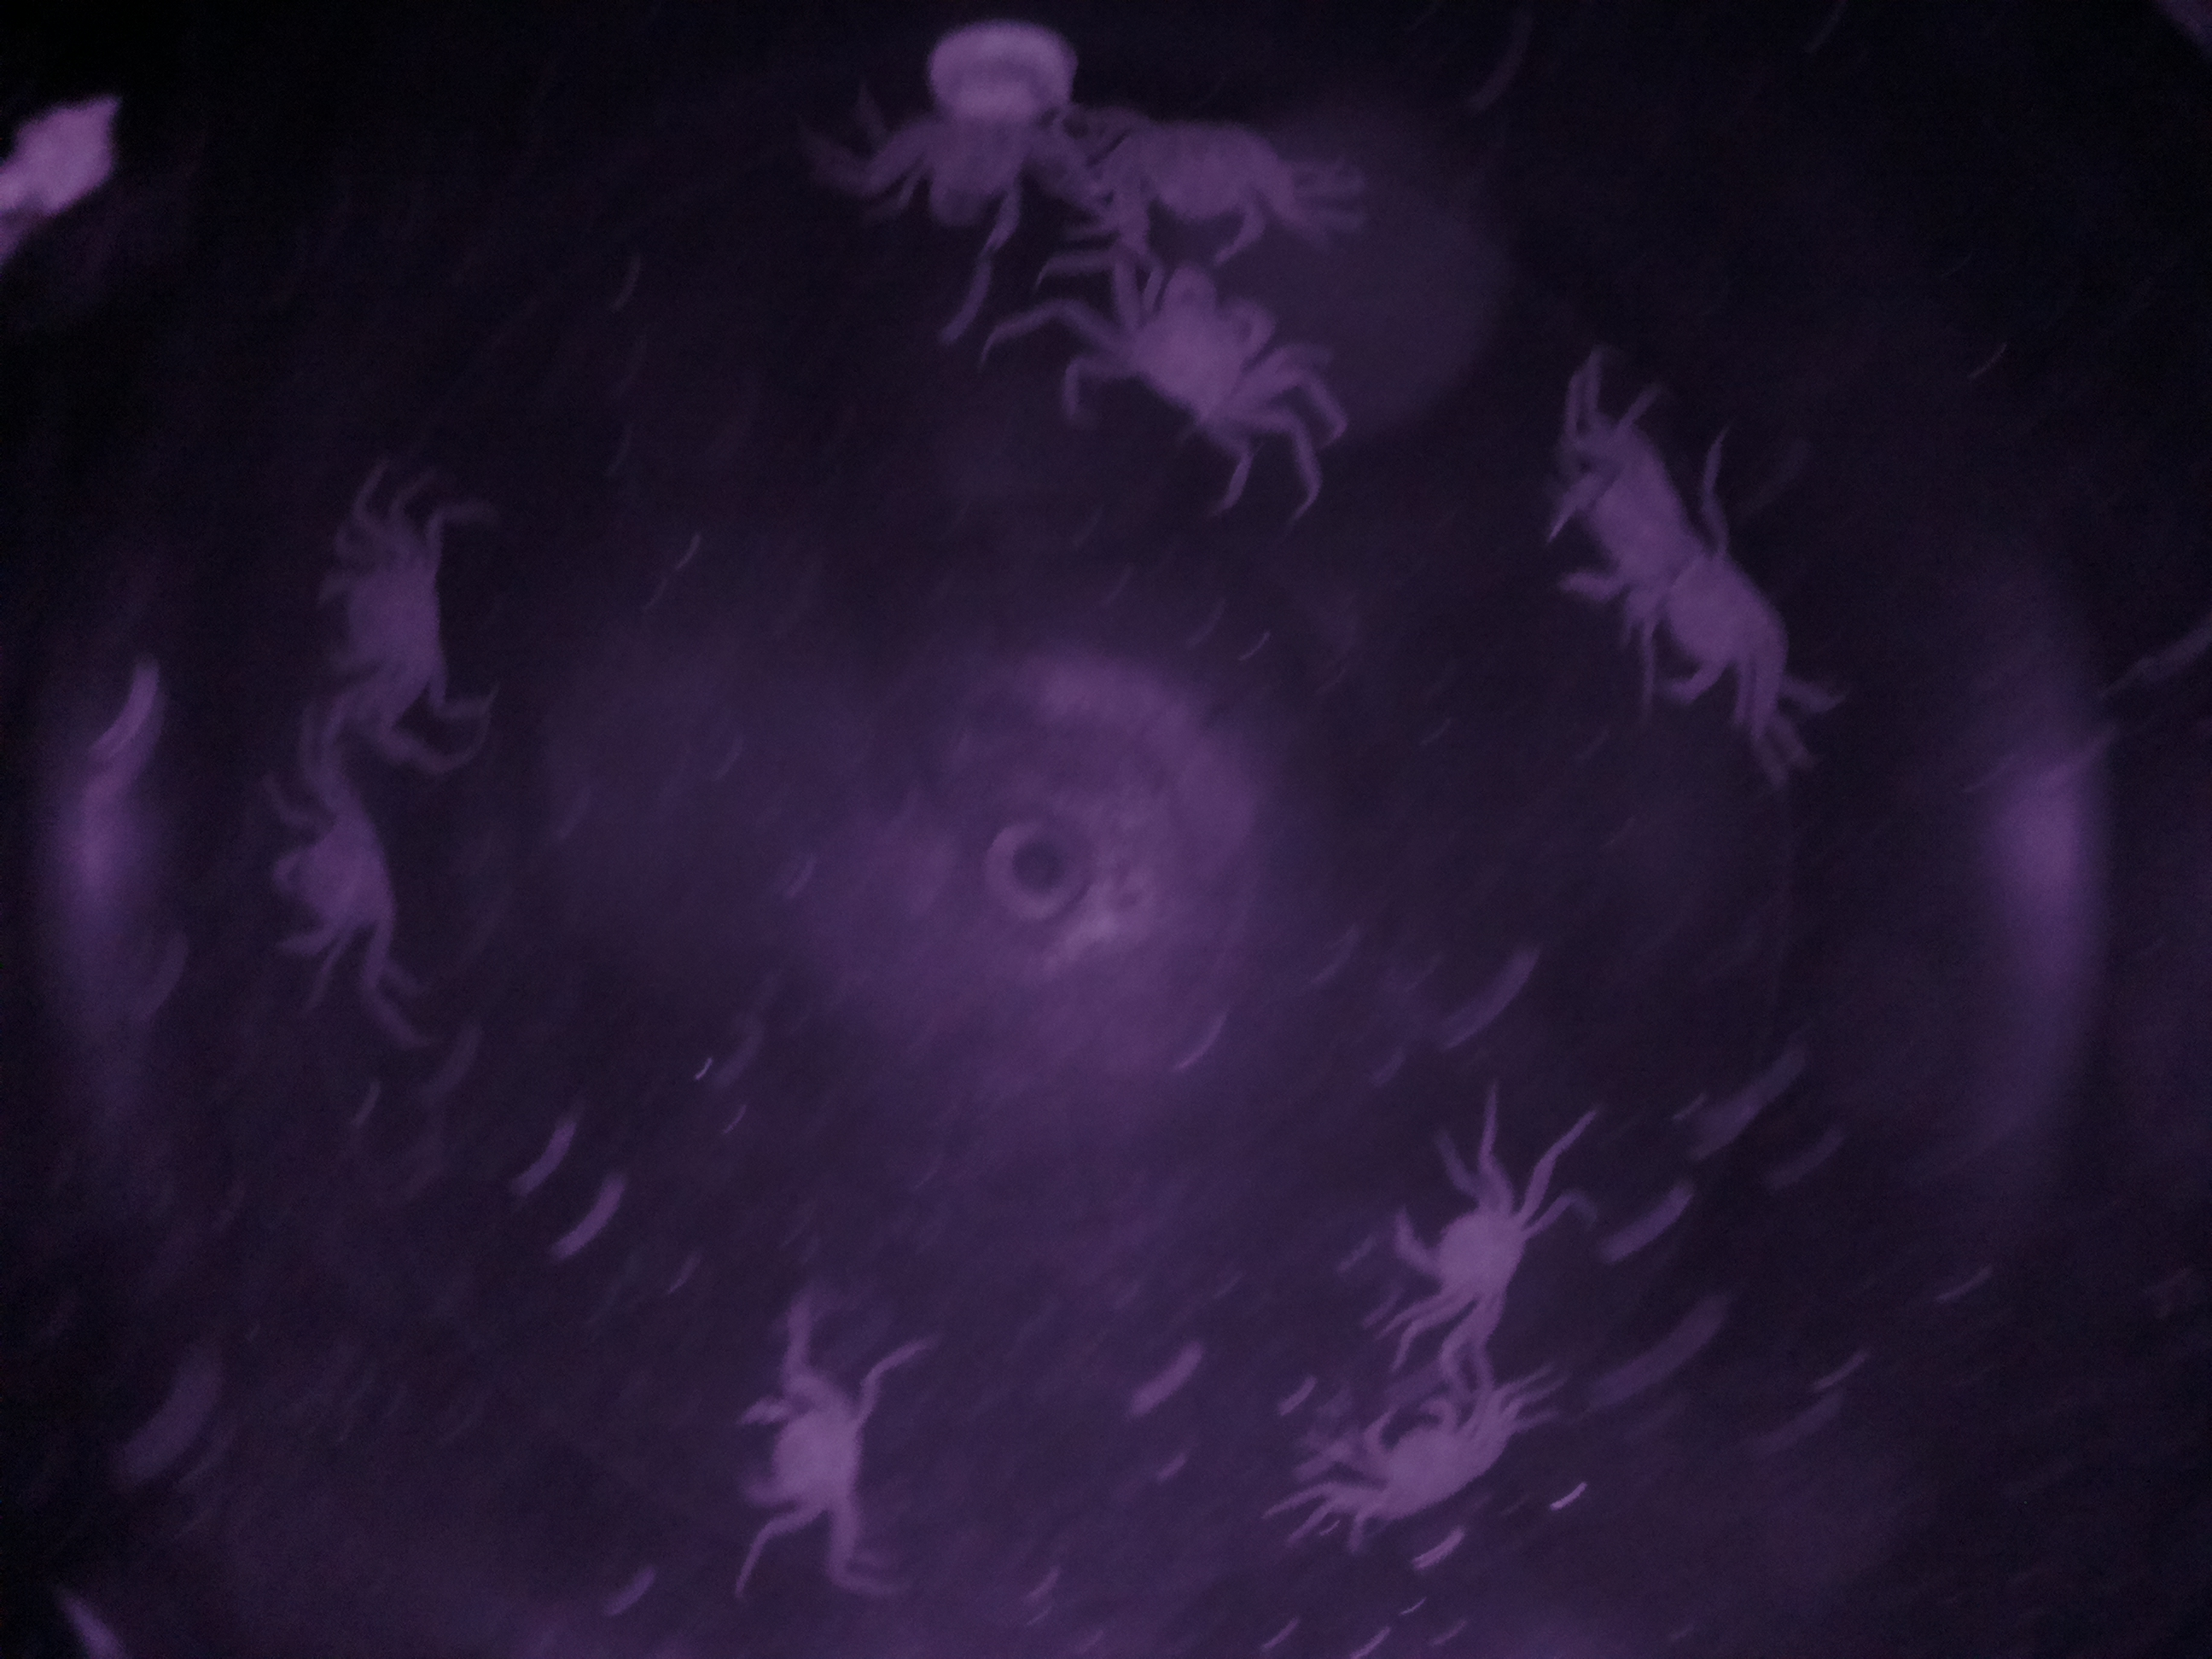Crab: (1096, 237, 1320, 479), (1320, 1382, 1507, 1542)
